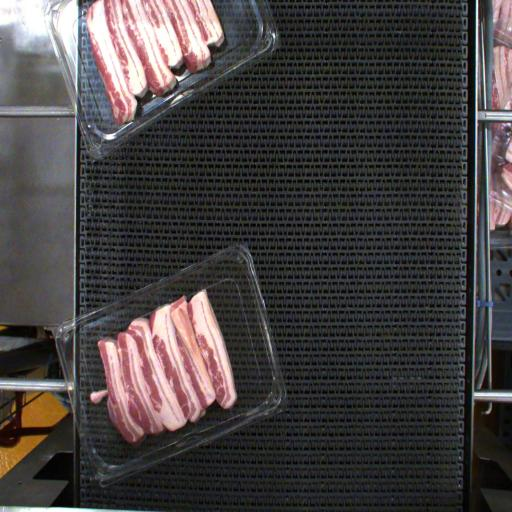loose-meat: (87, 376, 114, 410)
